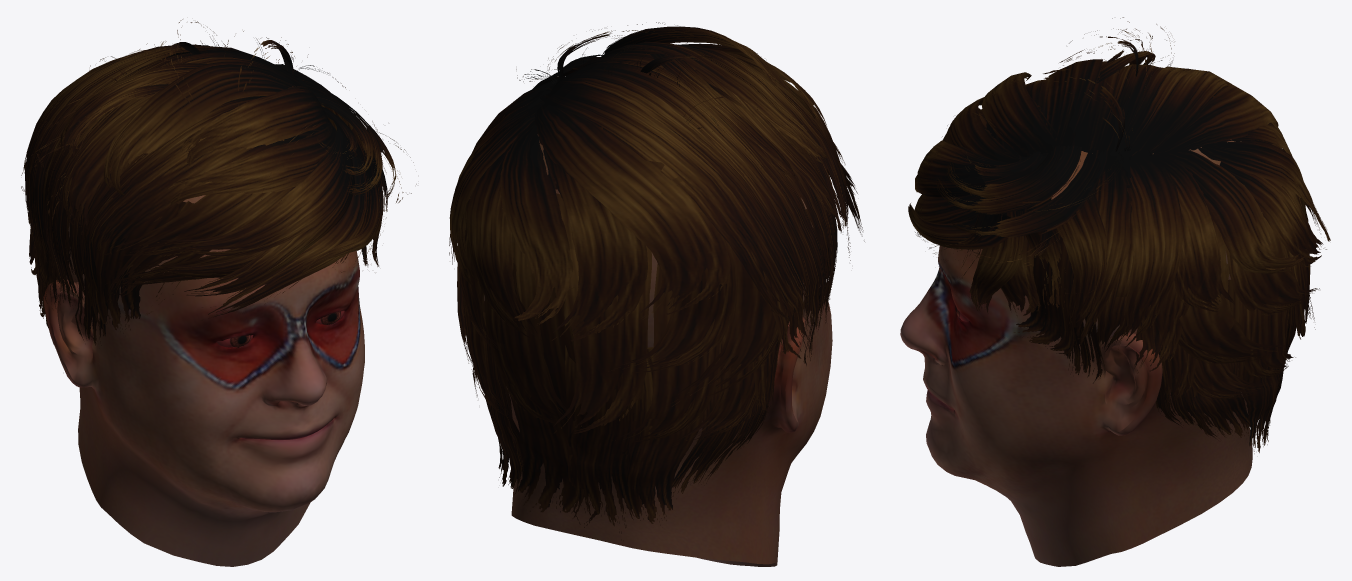
Rendered from elton_john.glb.
3 views of the same model, side by side, from view 1: azimuth 30°, elevation 25°; view 2: azimuth 150°, elevation 25°; view 3: azimuth 270°, elevation 25° (orthographic). The views are drawn at different scales.
Parts seen in each view (by area): view 1: Object_2; view 2: Object_2; view 3: Object_2.
Boxes of the visible parts, x1,y1,x2,y2 form: Object_2: [21, 19, 416, 566]; Object_2: [449, 22, 864, 566]; Object_2: [900, 17, 1330, 566].
Size of the model in its own units: 0.2025 by 0.2982 by 0.2281.
Materials: 1 (1 with a texture image).
